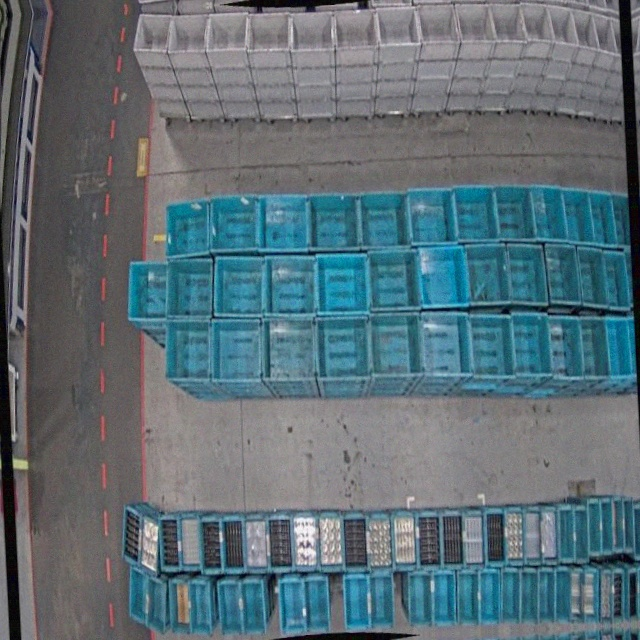Box: (209, 318, 266, 389), (316, 314, 373, 385), (210, 253, 268, 322), (260, 253, 318, 321), (313, 250, 371, 318), (261, 318, 318, 387), (207, 191, 265, 257), (365, 246, 420, 315), (306, 190, 363, 255), (160, 316, 212, 387), (371, 312, 424, 380), (418, 311, 470, 380), (257, 190, 311, 255), (357, 188, 411, 253), (165, 256, 218, 322), (418, 244, 470, 310), (162, 195, 213, 261), (404, 185, 456, 249), (122, 259, 171, 325), (509, 311, 554, 380), (468, 313, 513, 382), (450, 183, 498, 245), (505, 243, 549, 307), (464, 243, 508, 307), (547, 314, 585, 381), (494, 183, 535, 243), (245, 8, 294, 55), (544, 244, 581, 306), (331, 6, 380, 52), (288, 8, 336, 54), (532, 184, 569, 243), (205, 10, 252, 55), (166, 12, 211, 58), (132, 12, 175, 60), (376, 4, 422, 48), (455, 1, 496, 49), (560, 186, 594, 243), (580, 316, 610, 380), (417, 2, 460, 46), (490, 0, 527, 51), (576, 247, 607, 307), (603, 317, 632, 379), (318, 509, 346, 572), (520, 2, 552, 56), (587, 189, 617, 246), (600, 251, 629, 309), (120, 504, 145, 571), (391, 510, 418, 571), (364, 512, 391, 572), (343, 512, 370, 572), (416, 510, 443, 570), (279, 579, 307, 636), (291, 513, 318, 572), (244, 514, 271, 573), (143, 574, 169, 635), (268, 513, 295, 571), (138, 514, 162, 579), (220, 513, 246, 573), (126, 564, 150, 627), (186, 579, 212, 637), (461, 507, 486, 567), (241, 579, 267, 636), (199, 517, 224, 576), (484, 506, 508, 567), (303, 577, 329, 633), (217, 580, 243, 636), (177, 514, 202, 572), (431, 572, 457, 627), (345, 579, 371, 634), (366, 573, 391, 629), (546, 5, 579, 46), (499, 568, 523, 624), (503, 505, 525, 566), (551, 568, 574, 626), (438, 512, 460, 571), (476, 571, 500, 625), (456, 572, 480, 626), (570, 8, 600, 51), (406, 573, 429, 628), (170, 578, 192, 635), (522, 505, 543, 564), (591, 12, 618, 56), (610, 193, 631, 249), (536, 505, 556, 563), (520, 569, 541, 624), (579, 568, 599, 624), (537, 568, 557, 624), (558, 504, 577, 562), (159, 517, 179, 572), (571, 502, 589, 563), (568, 568, 587, 625), (586, 497, 604, 556), (609, 566, 627, 624), (599, 496, 616, 555), (598, 567, 615, 624), (622, 497, 638, 557), (609, 496, 625, 554), (624, 566, 640, 623), (552, 504, 567, 562)
